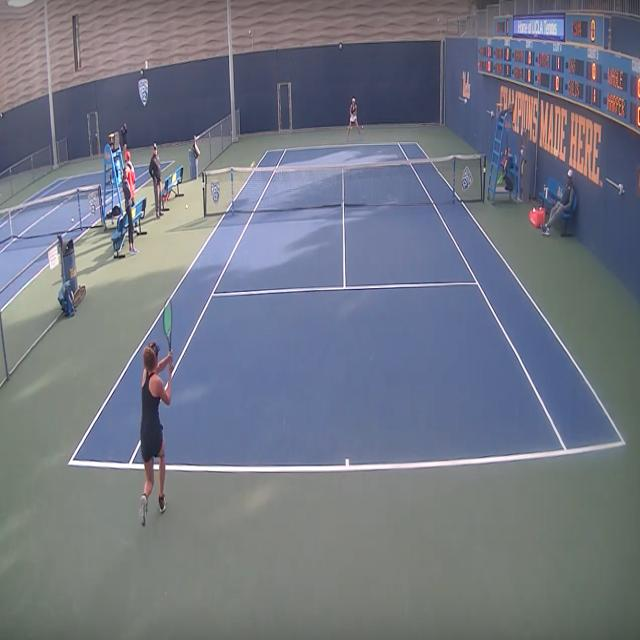ball: (249, 160, 255, 169), (185, 203, 189, 210), (71, 217, 75, 223)
